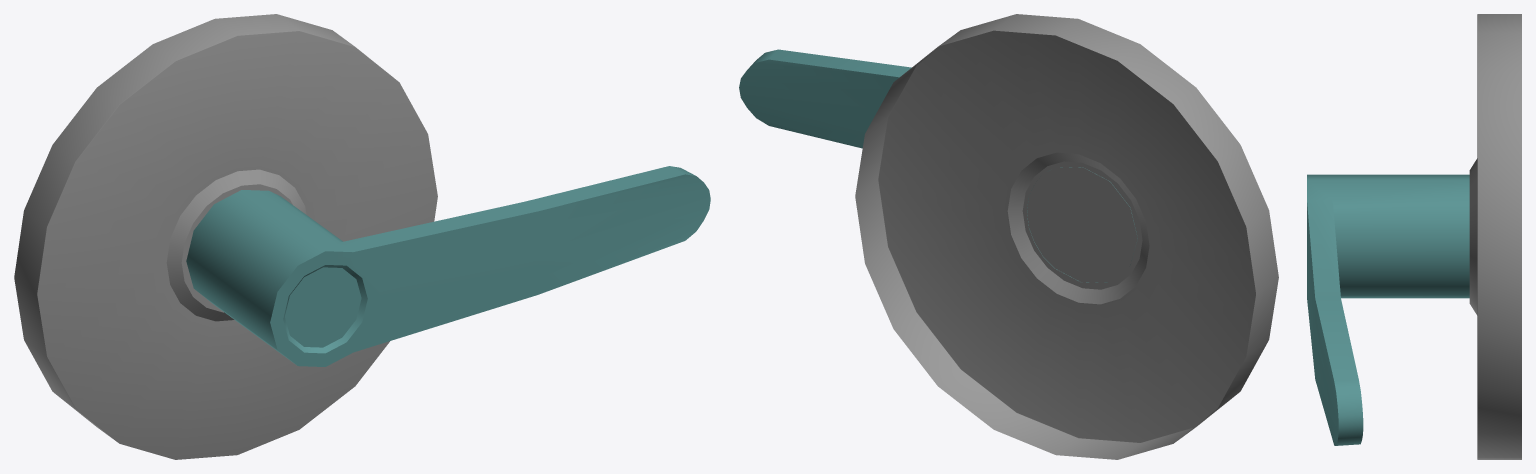
The model's file is handle2_1.fbx.
3 renders of one model, left to right at view 1: azimuth 30°, elevation 25°; view 2: azimuth 150°, elevation 25°; view 3: azimuth 270°, elevation 25°, orthographic. The views are drawn at different scales.
Visible parts, largest first — view 1: handle2_1; view 2: handle2_1; view 3: handle2_1.
Boxes of the visible parts, box(x1,y1,x2,y2) form: handle2_1: box(14, 14, 710, 459); handle2_1: box(739, 14, 1278, 459); handle2_1: box(1307, 14, 1521, 459).
Size of the model in its own units: 15.11 by 10.06 by 4.81.
